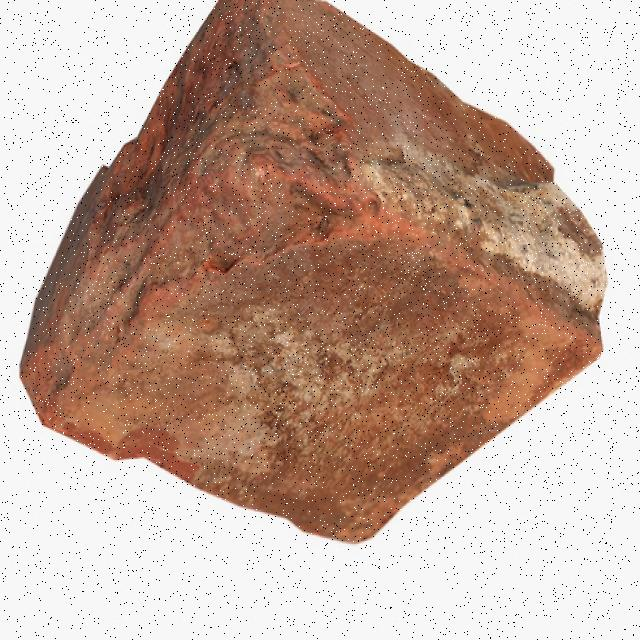bricks_ruin: (20, 0, 611, 545)
